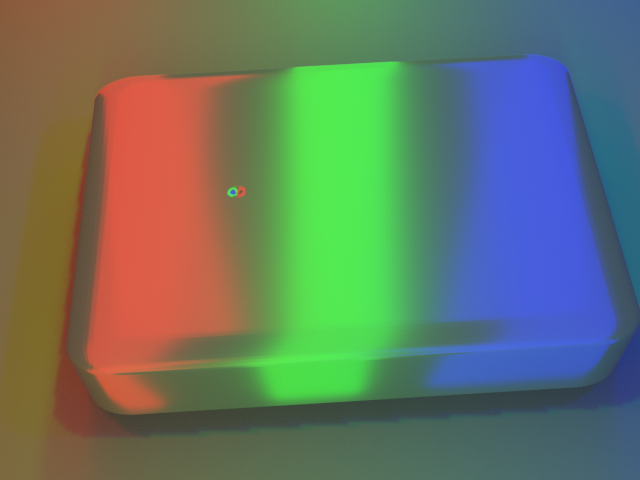dent: (208, 170, 247, 206)
